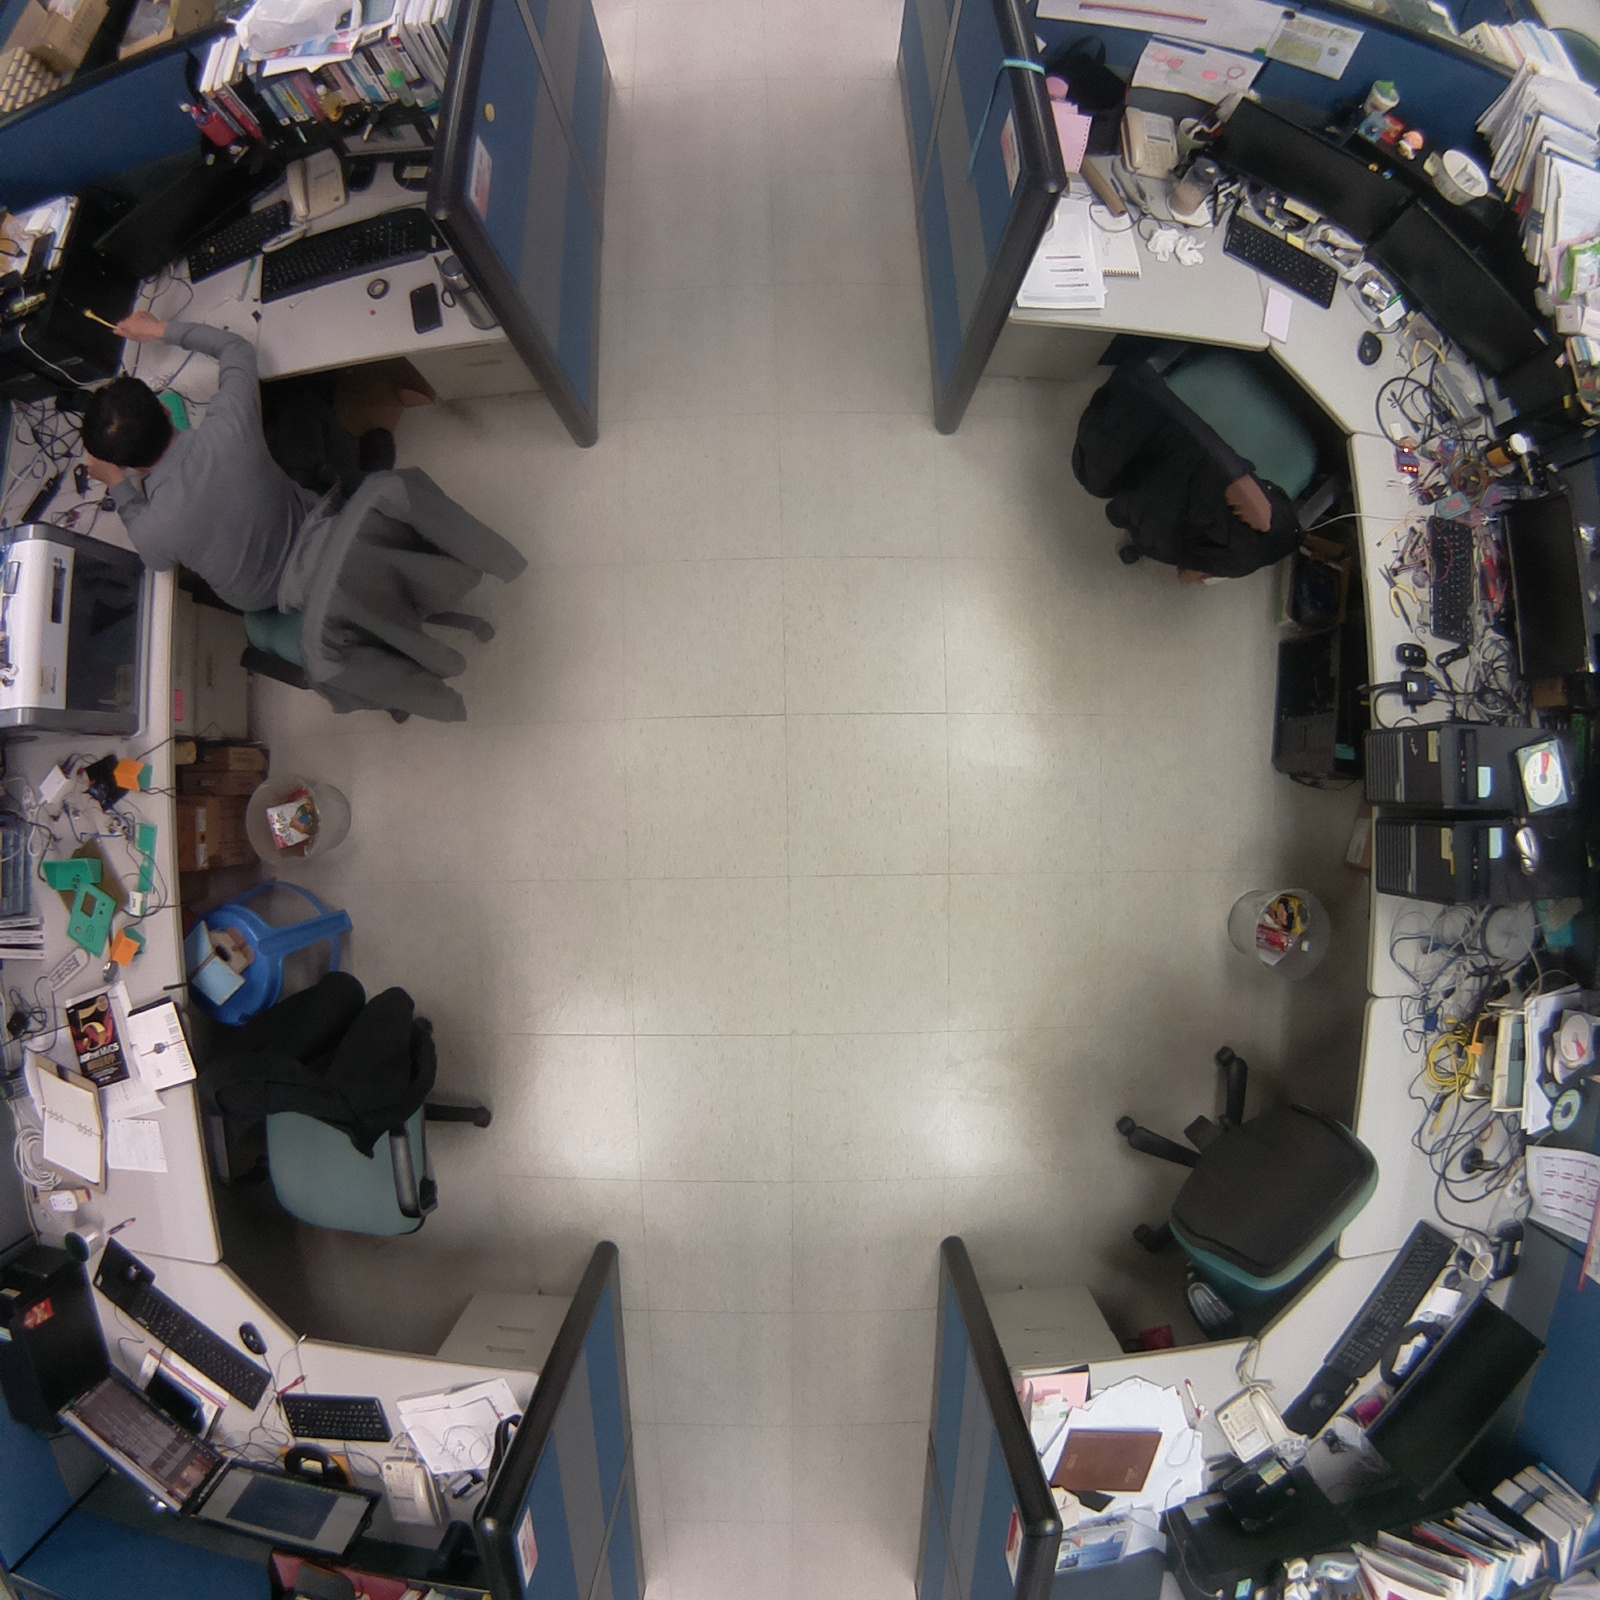chair: (196, 945, 527, 1260), (1083, 1029, 1394, 1337), (1050, 327, 1363, 606)
head: (70, 376, 178, 474)
sitting: (61, 372, 545, 755)
